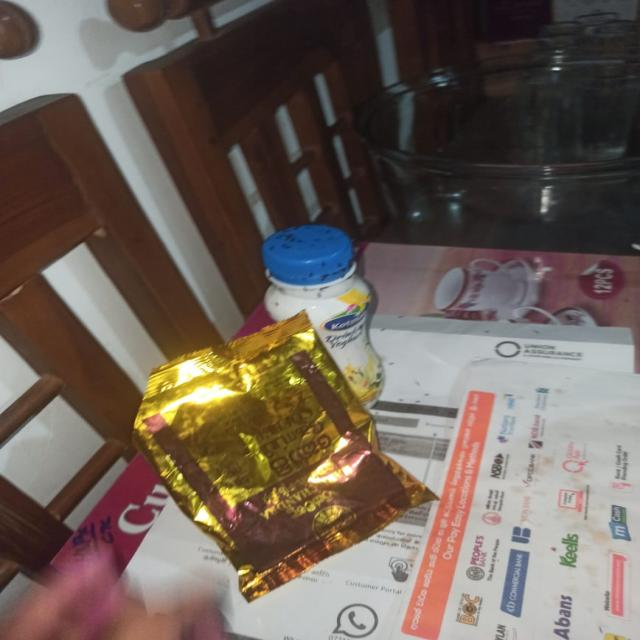Harischandra Coffee: (145, 369, 451, 589)
